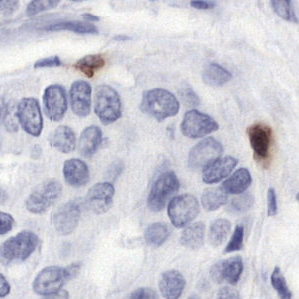Lymphocyte: (247, 122, 273, 160)
